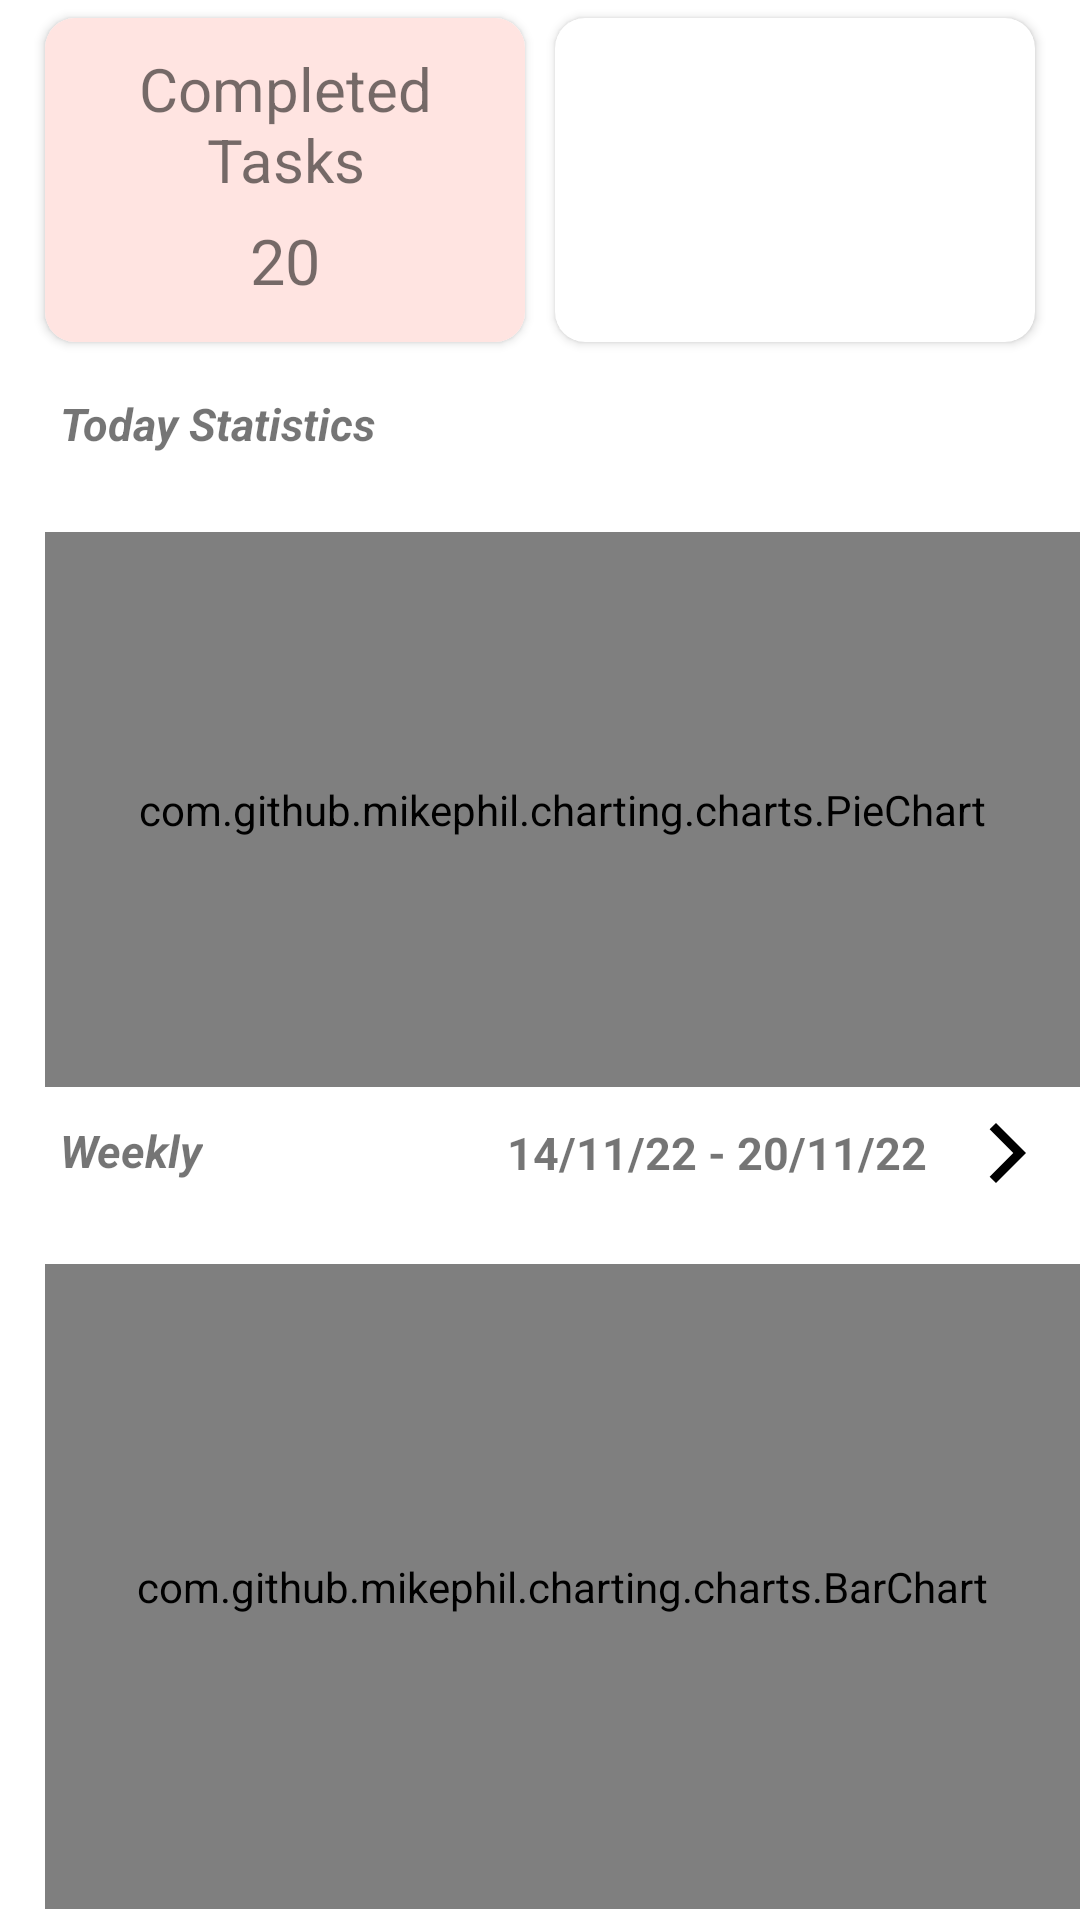

Screen size 1080*1920. Icon name, then its box in pixels as BBox(x1, y1, x2, y2):
arrow forward: BBox(989, 1123, 1026, 1183)
